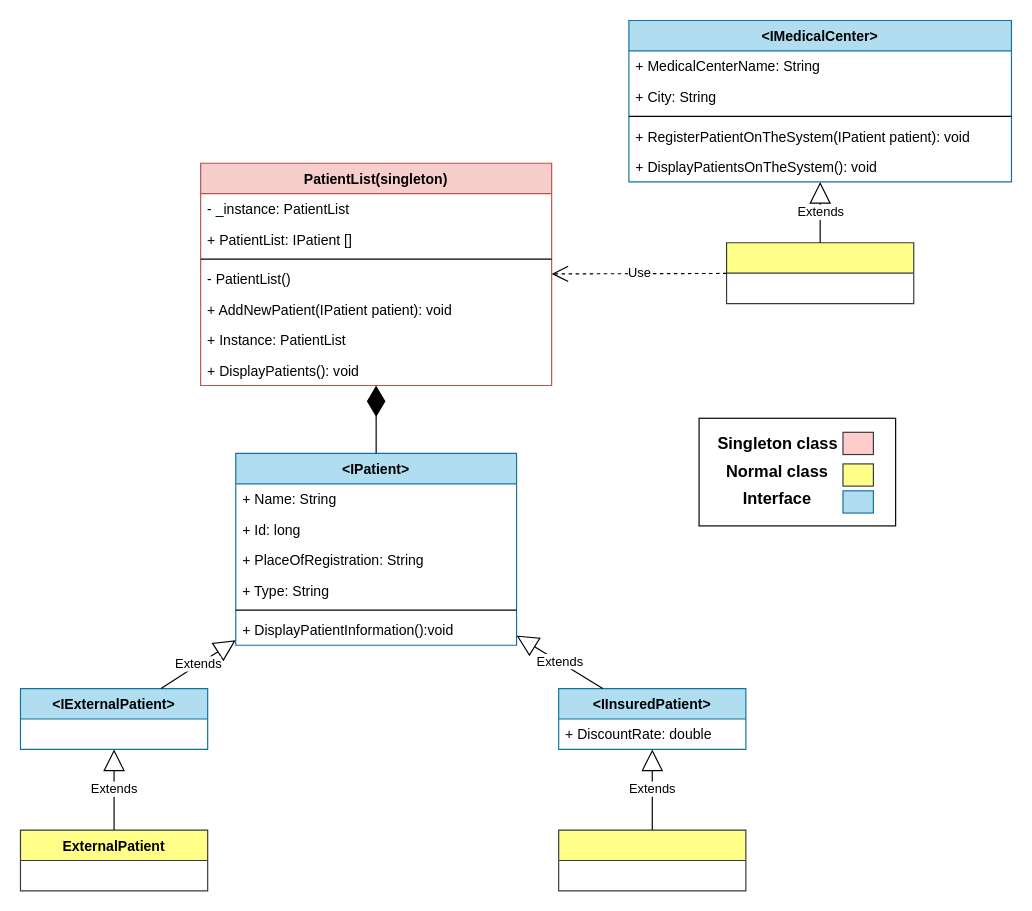
Image size: 1032x911. Some labels were removed from this diagram. Here are the shapes that lost their labels. From the top down, the box of each, then its label:
(725, 242, 914, 304): Hospital
(558, 829, 746, 891): InsuredPatient
